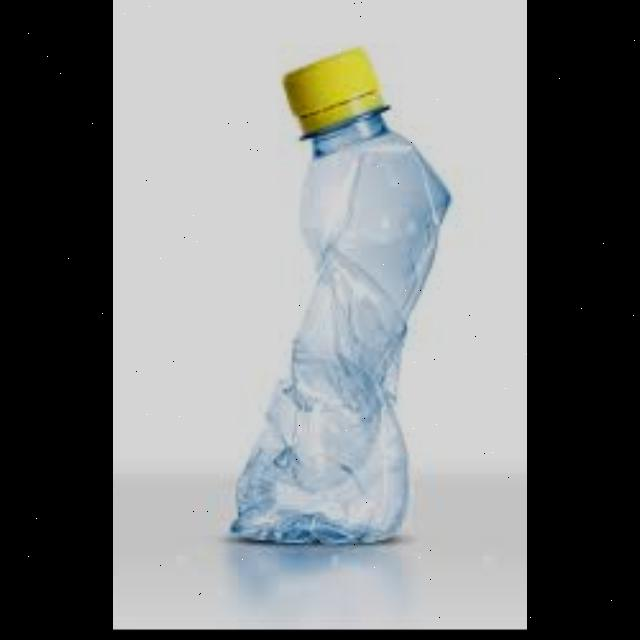trash: (212, 27, 466, 563)
